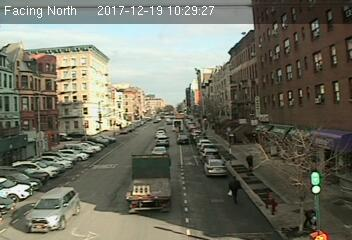car: (25, 186, 81, 233), (204, 158, 227, 175), (155, 135, 169, 147), (176, 133, 188, 144)
pedestrian: (226, 176, 244, 205)
truck: (128, 153, 172, 214), (172, 118, 183, 132)
